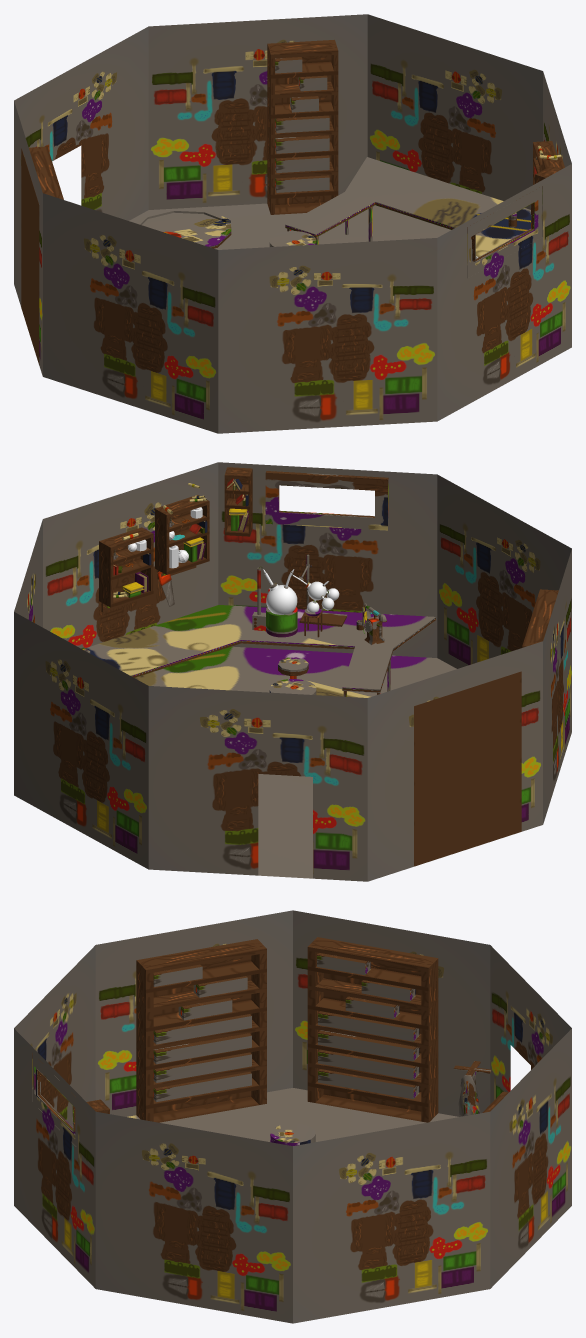
File: room desu 2.fbx
3 views of the same model, one above another, from view 1: azimuth 30°, elevation 25°; view 2: azimuth 150°, elevation 25°; view 3: azimuth 270°, elevation 25° (orthographic). The views are drawn at different scales.
Visible parts, largest first — view 1: pCylinder1, Shelf6 (×2), pCylinder7, pCylinder8, pCube34, pCube33, pCube35, pCube36, pCube25, pCylinder9; view 2: pCylinder1, Shelf6 (×2), pCylinder7, Shelf (×2), pCube25, shelf:Shelf, orbs2:pCylinder27, orbs2:pSphere18, pCylinder9; view 3: pCylinder1, Shelf6 (×2), pCube34 (×2), pCube33 (×2), pCube35 (×2), pCube36 (×2), pCube32 (×2), pCube30 (×2), pCube31 (×2), pCylinder9, pPlane1, pCube25.
Boxes of the visible parts, x1,y1,x2,y2 form: pCylinder1: (14, 14, 571, 433); Shelf6 (×2): (21, 39, 338, 364); pCylinder7: (285, 157, 530, 258); pCylinder8: (136, 208, 231, 248); pCube34: (275, 135, 329, 153); pCube33: (275, 115, 329, 133); pCube35: (275, 155, 329, 172); pCube36: (275, 175, 329, 192); pCube25: (467, 186, 542, 277); pCylinder9: (269, 231, 316, 246); pCylinder1: (14, 462, 571, 881); Shelf6 (×2): (414, 589, 558, 866); pCylinder7: (82, 605, 435, 692); Shelf (×2): (99, 467, 252, 611); pCube25: (265, 471, 388, 530); shelf:Shelf: (155, 495, 209, 579); orbs2:pCylinder27: (266, 607, 297, 637); orbs2:pSphere18: (266, 584, 297, 614); pCylinder9: (269, 679, 316, 694); pCylinder1: (14, 910, 571, 1323); Shelf6 (×2): (136, 937, 438, 1122); pCube34 (×2): (153, 1030, 419, 1064); pCube33 (×2): (153, 1011, 419, 1044); pCube35 (×2): (153, 1049, 419, 1082); pCube36 (×2): (153, 1069, 419, 1101); pCube32 (×2): (178, 996, 399, 1020); pCube30 (×2): (153, 953, 370, 986); pCube31 (×2): (193, 976, 415, 1001); pCylinder9: (270, 1123, 315, 1145); pPlane1: (458, 1075, 480, 1116); pCube25: (32, 1053, 75, 1146).
Bounding box in the file's own units: 10.67 × 3.77 × 10.67.
7 materials, 1 textured.
